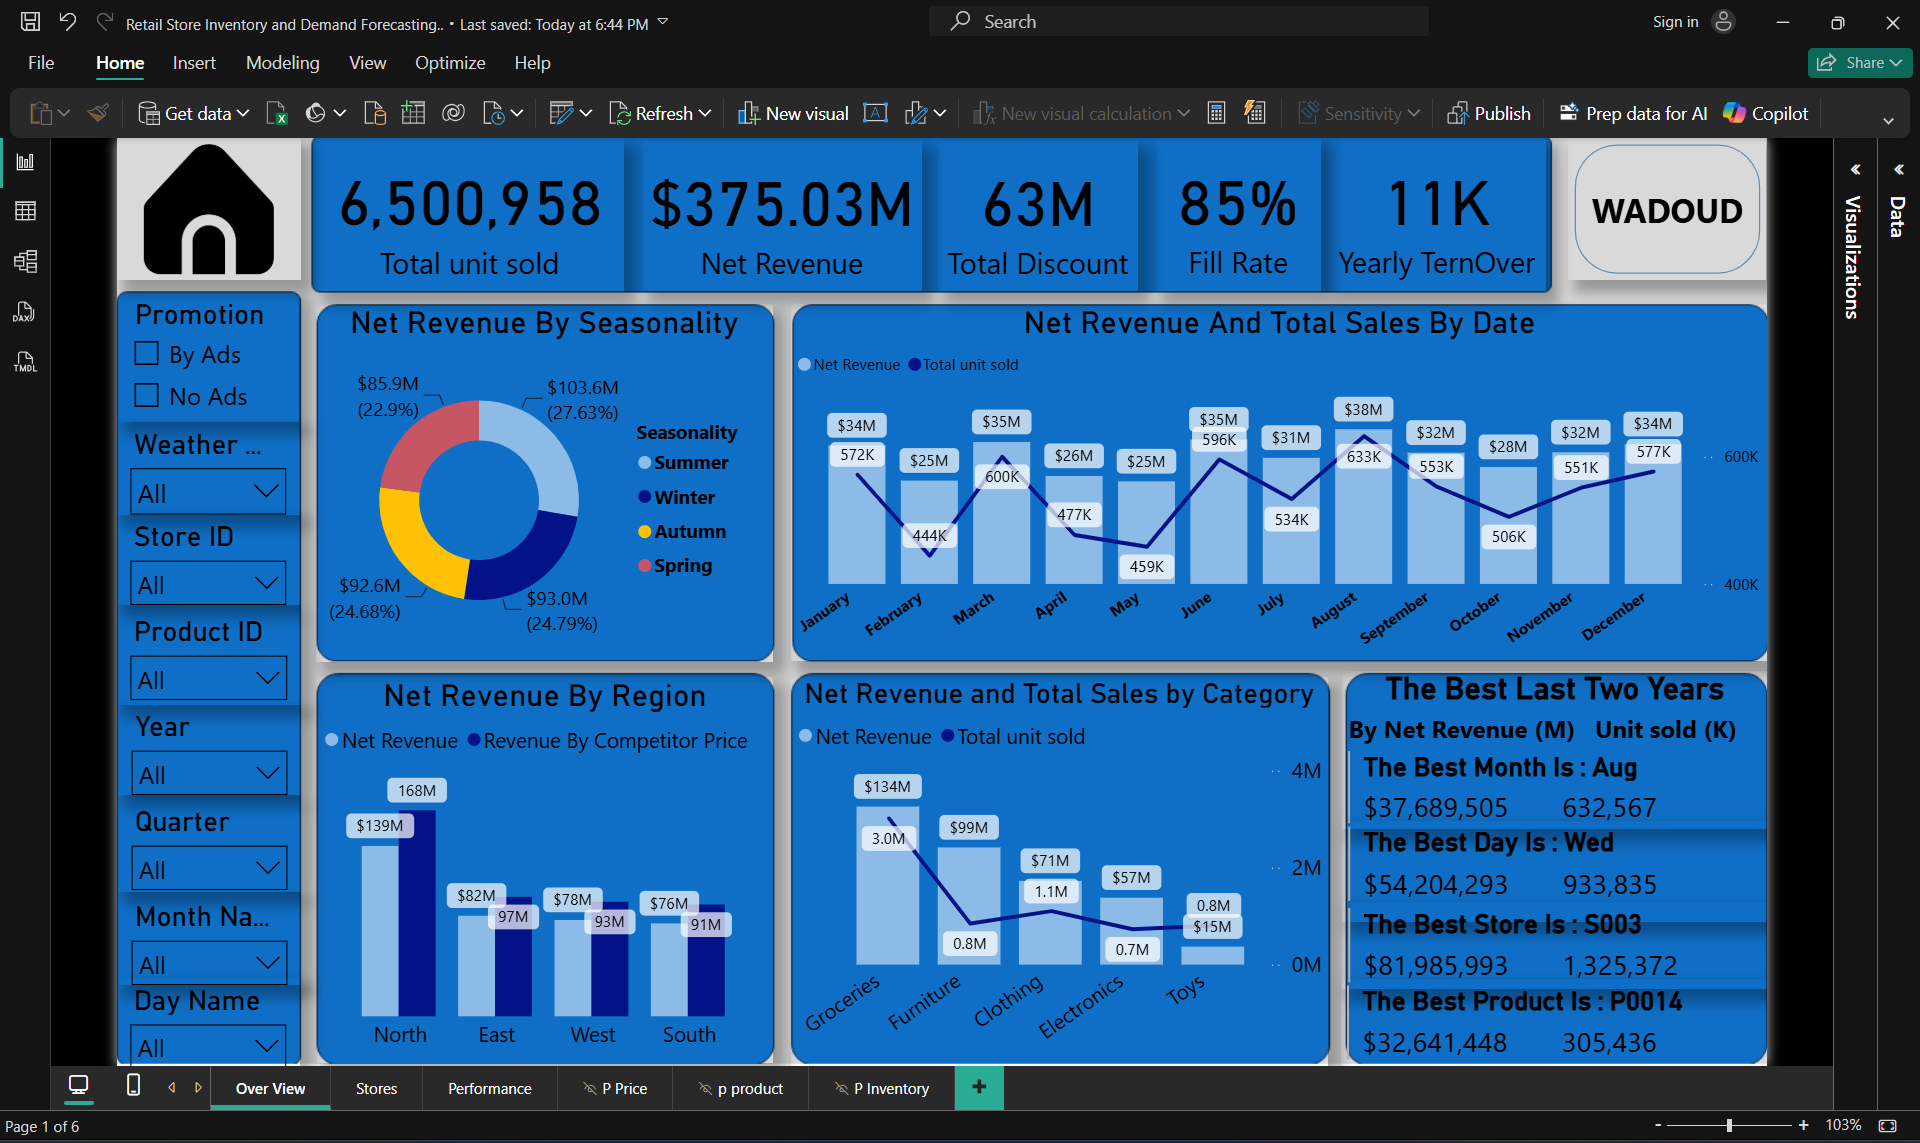

What the dashboard file says about the page in this screenshot:
{"tool":"powerbi","page":{"name":"Over View","canvas":[1280,720],"ordinal":0},"visuals":[{"type":"multiRowCard","title":"The Best Last Two Years","fields":{"Values":["sales_data.Total Sales","sales_data.Best Month","sales_data.Total unit sold"]},"box":[950,413,330.1,123],"z":0,"group":"g2"},{"type":"slicer","fields":{"Values":["Calender table.Year"]},"box":[0.5,439,141.3,70.7],"z":0},{"type":"image","box":[5.1,373.1,131.6,117.7],"z":1000,"group":"g1"},{"type":"multiRowCard","fields":{"Values":["sales_data.Total Sales","sales_data.Best Day","sales_data.Total unit sold"]},"box":[950,529,331.1,78],"z":1000,"group":"g2"},{"type":"slicer","fields":{"Values":["Calender table.Month Name"]},"box":[1,586.6,141.3,70.7],"z":1000},{"type":"slicer","fields":{"Values":["sales_data.Promotion"]},"box":[1,119,140,101],"z":2000},{"type":"image","box":[0,241.4,141.1,131.7],"z":2000,"group":"g1"},{"type":"multiRowCard","fields":{"Values":["sales_data.Total Sales","sales_data.Best Store","sales_data.Total unit sold"]},"box":[950.2,592.4,330.1,67.7],"z":2000,"group":"g2"},{"type":"image","box":[0,112.5,140.5,130.4],"z":3000,"group":"g1"},{"type":"slicer","fields":{"Values":["Calender table.Day Name"]},"box":[0,651.4,141.5,68.8],"z":3000},{"type":"multiRowCard","fields":{"Values":["sales_data.Total Sales","sales_data.Best Product","sales_data.Total unit sold"]},"box":[948.9,652.4,331.5,67.7],"z":3000,"group":"g2"},{"type":"card","fields":{"Values":["sales_data.Total unit sold"]},"box":[154,1,239.1,118],"z":4000},{"type":"slicer","fields":{"Values":["Calender table.Quarter"]},"box":[0.8,512.3,141.3,71.7],"z":5000},{"type":"card","fields":{"Values":["sales_data.Total Sales"]},"box":[407.1,2,217.1,117],"z":6000},{"type":"lineClusteredColumnComboChart","title":"Net Revenue and Total Sales by Category","fields":{"Category":["sales_data.Category"],"Y":["sales_data.Total Sales"],"Y2":["sales_data.Total unit sold"]},"box":[522.8,417.8,416.7,302.4],"z":7000},{"type":"lineClusteredColumnComboChart","title":"Net Revenue By Region","fields":{"Category":["sales_data.Region"],"Y":["sales_data.Total Sales","sales_data.Sales By Competitor Price"]},"box":[155.1,417.8,353.8,299.5],"z":8000},{"type":"donutChart","title":"Net Revenue By Seasonality","fields":{"Category":["sales_data.Seasonality"],"Y":["sales_data.Total Sales"]},"box":[154.1,128.9,354.8,277.2],"z":9000},{"type":"slicer","fields":{"Values":["sales_data.Weather_Condition"]},"box":[0,220,141.5,71.7],"z":10000},{"type":"slicer","fields":{"Values":["sales_data.Store_ID"]},"box":[0,291.3,141.3,70.7],"z":11000},{"type":"slicer","fields":{"Values":["sales_data.Product_ID"]},"box":[0,365.1,142,74],"z":12000},{"type":"lineClusteredColumnComboChart","title":"Net Revenue And  Total Sales By Date","fields":{"Category":["sales_data.Seasonality","Calender table.Date.Variation.Date Hierarchy.Year","Calender table.Date.Variation.Date Hierarchy.Quarter","Calender table.Date.Variation.Date Hierarchy.Month","Calender table.Date.Variation.Date Hierarchy.Day"],"Y":["sales_data.Total Sales After Discount"],"Y2":["sales_data.Total unit sold"]},"box":[522.2,129,758.2,277.1],"z":13000},{"type":"card","fields":{"Values":["sales_data.Total Discount"]},"box":[637.2,2,155,117],"z":14000},{"type":"group","id":"g1","title":"Group 1","box":[0,110.8,142.2,380.2],"z":15000},{"type":"card","fields":{"Values":["sales_data.Fill Rate"]},"box":[805.3,0,128,119],"z":16000},{"type":"shape","box":[1125.6,0,153.8,110.3],"z":17000},{"type":"group","id":"g2","title":"G Best","box":[948.9,413,332.2,307.1],"z":18000},{"type":"image","box":[0,0,142.3,110.3],"z":20000},{"type":"card","fields":{"Values":["sales_data.Yearly TernOver"]},"box":[939.5,0,168.7,119.2],"z":21000}]}

Visuals, with their boxes on the page's 1280x720 design canvas (x1, y1, x2, y2). These are canvas units, not pixel positions in the 1920x1143 screenshot, which may show the page scaled, cropped or inside an application window:
"The Best Last Two Years" multiRowCard: (950,413,1280,536)
slicer - Calender table.Year: (0,439,142,510)
image: (5,373,137,491)
multiRowCard - sales_data.Total Sales x sales_data.Best Day: (950,529,1281,607)
slicer - Calender table.Month Name: (1,587,142,657)
slicer - sales_data.Promotion: (1,119,141,220)
image: (0,241,141,373)
multiRowCard - sales_data.Total Sales x sales_data.Best Store: (950,592,1280,660)
image: (0,112,140,243)
slicer - Calender table.Day Name: (0,651,142,720)
multiRowCard - sales_data.Total Sales x sales_data.Best Product: (949,652,1280,720)
card - sales_data.Total unit sold: (154,1,393,119)
slicer - Calender table.Quarter: (1,512,142,584)
card - sales_data.Total Sales: (407,2,624,119)
"Net Revenue and Total Sales by Category" lineClusteredColumnComboChart: (523,418,940,720)
"Net Revenue By Region" lineClusteredColumnComboChart: (155,418,509,717)
"Net Revenue By Seasonality" donutChart: (154,129,509,406)
slicer - sales_data.Weather_Condition: (0,220,142,292)
slicer - sales_data.Store_ID: (0,291,141,362)
slicer - sales_data.Product_ID: (0,365,142,439)
"Net Revenue And  Total Sales By Date" lineClusteredColumnComboChart: (522,129,1280,406)
card - sales_data.Total Discount: (637,2,792,119)
"Group 1" group: (0,111,142,491)
card - sales_data.Fill Rate: (805,0,933,119)
shape: (1126,0,1279,110)
"G Best" group: (949,413,1281,720)
image: (0,0,142,110)
card - sales_data.Yearly TernOver: (940,0,1108,119)
